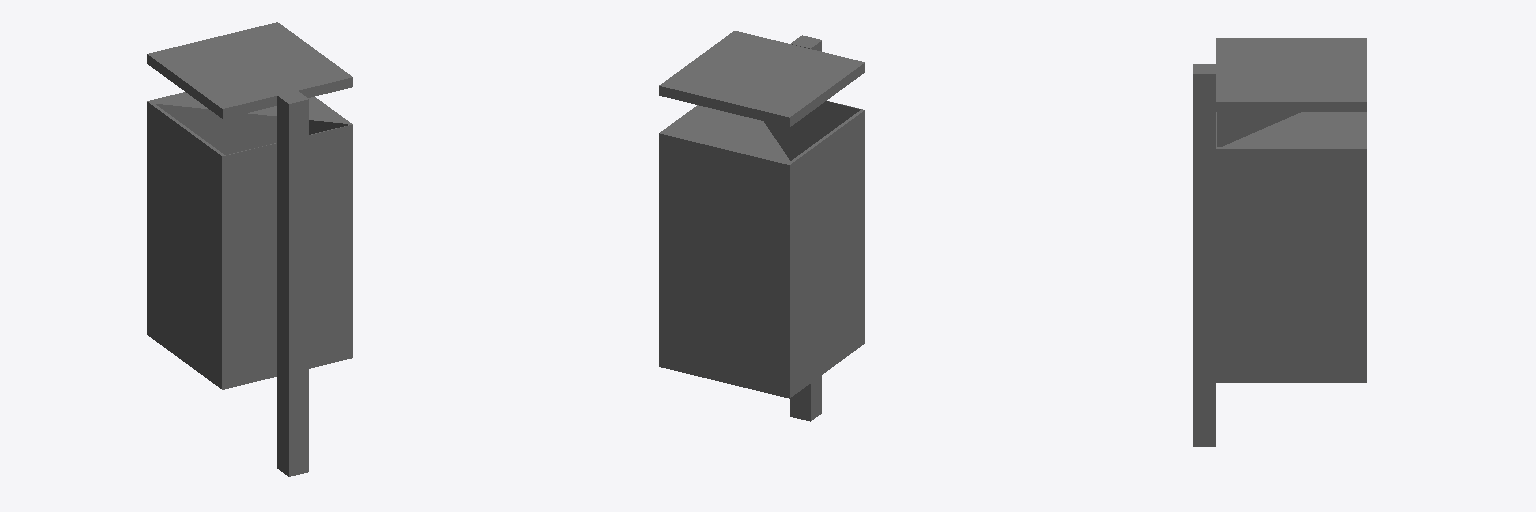
The model's file is BotedeReciclaje.obj.
The picture shows the model from 3 angles: view 1: azimuth 30°, elevation 25°; view 2: azimuth 150°, elevation 25°; view 3: azimuth 270°, elevation 25°; orthographic projection.
Parts seen in each view (by area): view 1: polySurface144; view 2: polySurface144; view 3: polySurface144.
Part boxes in pixels (bbox=[...]): polySurface144: bbox=[147, 22, 352, 476]; polySurface144: bbox=[659, 31, 864, 421]; polySurface144: bbox=[1193, 38, 1366, 446].
Bounding box in the file's own units: 1.28 × 3.49 × 1.48.